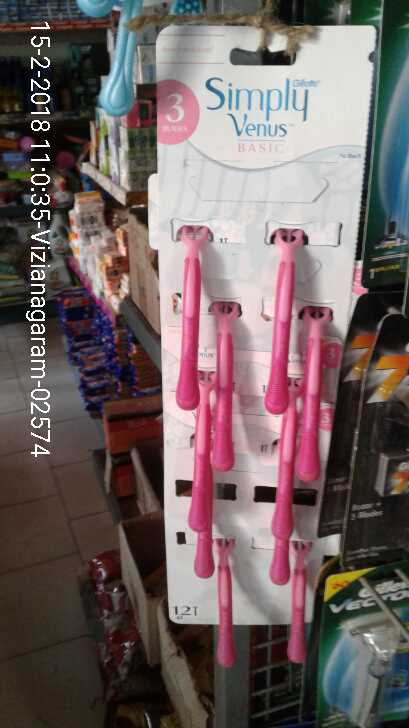venus: (268, 399, 327, 675), (158, 210, 213, 413), (253, 223, 300, 411), (292, 303, 339, 487), (211, 285, 247, 468), (185, 365, 217, 537), (209, 529, 243, 680)
